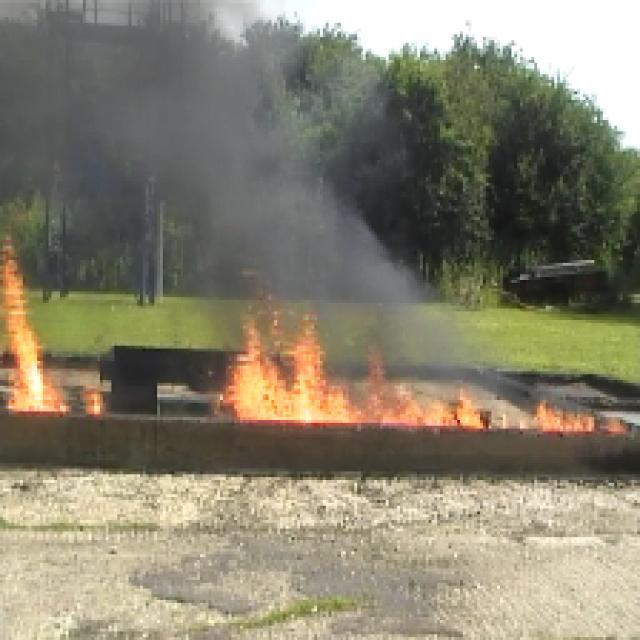Fire: (230, 316, 327, 424), (0, 275, 62, 423)
Smoke: (127, 70, 272, 210)
